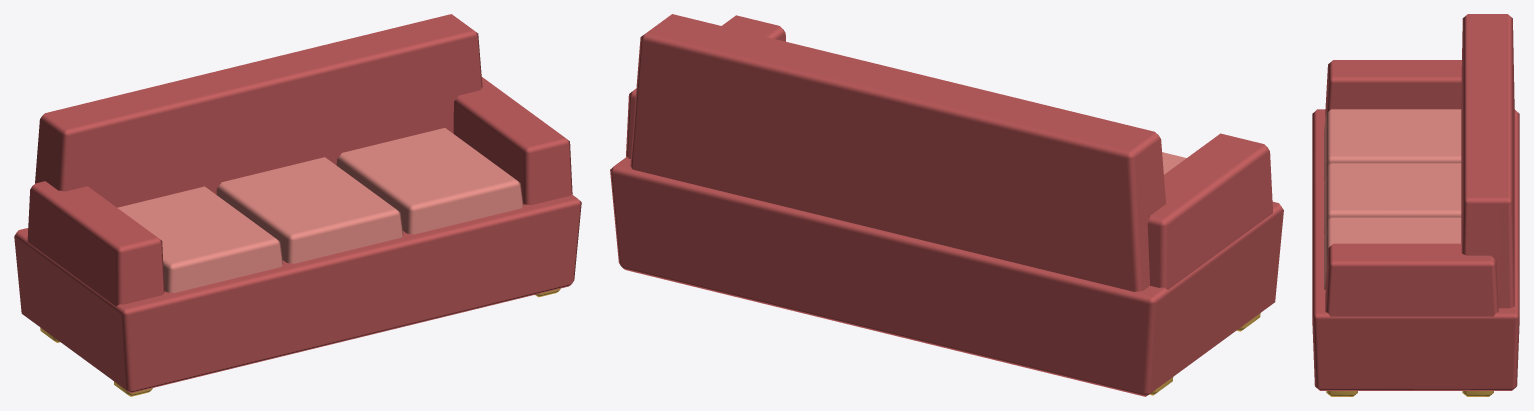
Rendered from sofa.glb.
3 renders of one model, left to right at view 1: azimuth 30°, elevation 25°; view 2: azimuth 150°, elevation 25°; view 3: azimuth 270°, elevation 25°, orthographic. The views are drawn at different scales.
Parts seen in each view (by area): view 1: sofa; view 2: sofa; view 3: sofa.
Part boxes in pixels (x1=…): sofa: x1=14, y1=14, x2=581, y2=396; sofa: x1=610, y1=14, x2=1283, y2=396; sofa: x1=1312, y1=14, x2=1519, y2=396.
Size of the model in its own units: 2.53 by 1.11 by 1.07.
